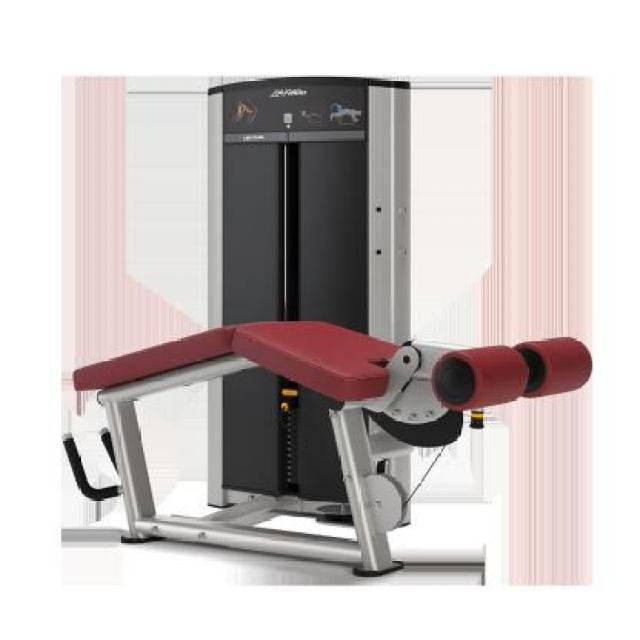reg curl machine: (58, 79, 592, 578)
